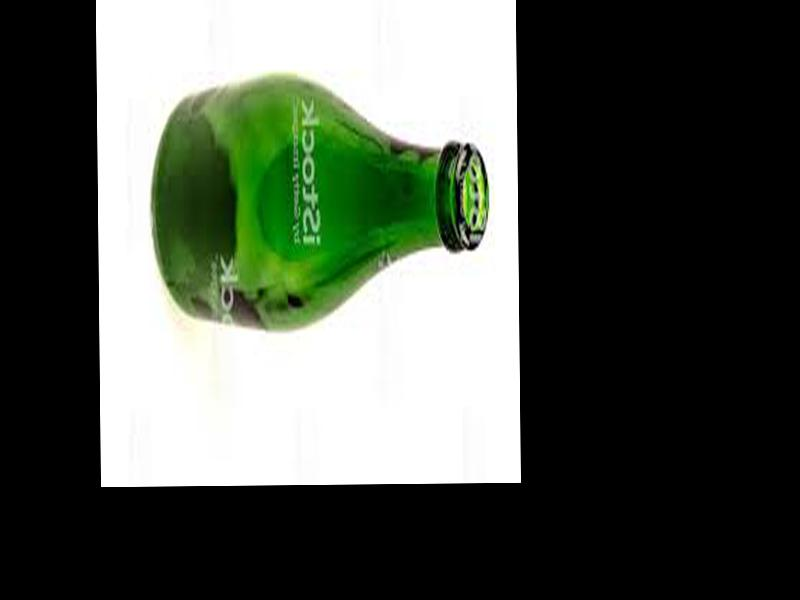Beer: (149, 71, 491, 334)
